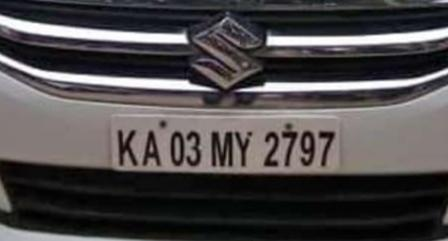0: (167, 124, 187, 169)
3: (185, 125, 204, 167)
7: (315, 131, 339, 169), (282, 124, 300, 169)
9: (299, 129, 317, 166)
A: (139, 124, 163, 170)
K: (114, 125, 141, 169)
M: (210, 123, 235, 171)
Y: (232, 124, 257, 169), (262, 126, 280, 170)
